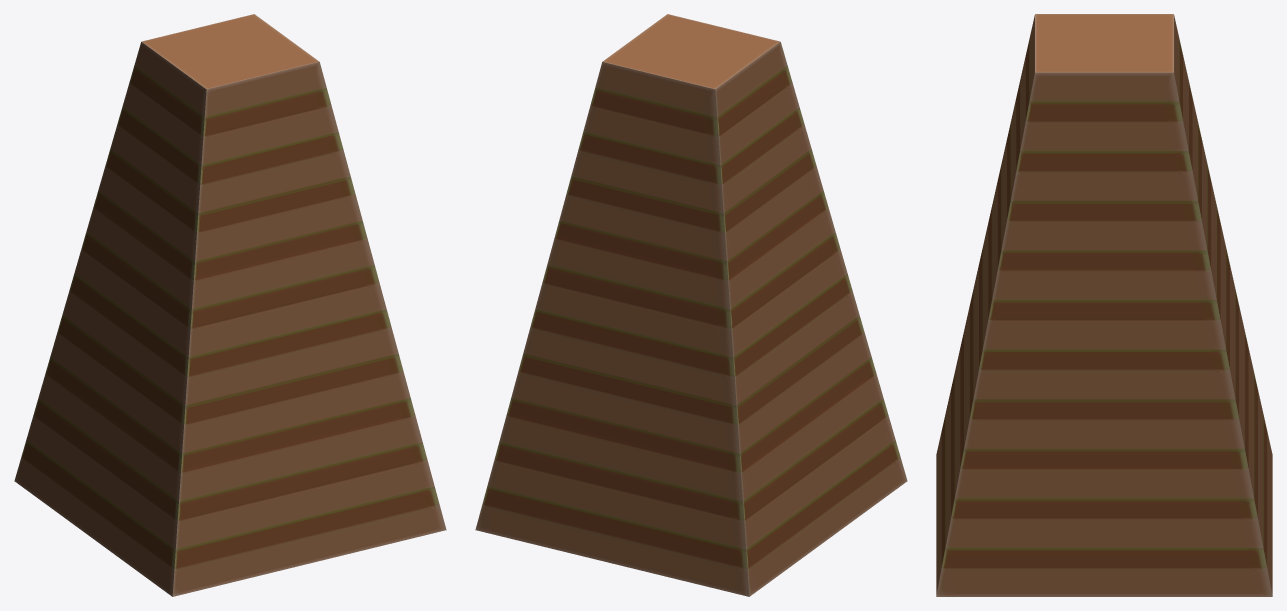
File: MapScenery4.fbx
3 views of the same model, side by side, from view 1: azimuth 30°, elevation 25°; view 2: azimuth 150°, elevation 25°; view 3: azimuth 270°, elevation 25° (orthographic). The views are drawn at different scales.
Visible parts, largest first — view 1: Skyscraper_A; view 2: Skyscraper_A; view 3: Skyscraper_A.
Boxes of the visible parts, x1,y1,x2,y2 form: Skyscraper_A: (14, 14, 446, 596); Skyscraper_A: (475, 14, 907, 596); Skyscraper_A: (936, 14, 1272, 596).
Bounding box in the file's own units: 0.7373 × 1.17 × 0.7373.
Materials: 1 (1 with a texture image).
